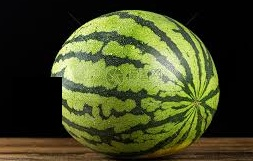watermelon: (50, 10, 218, 157)
